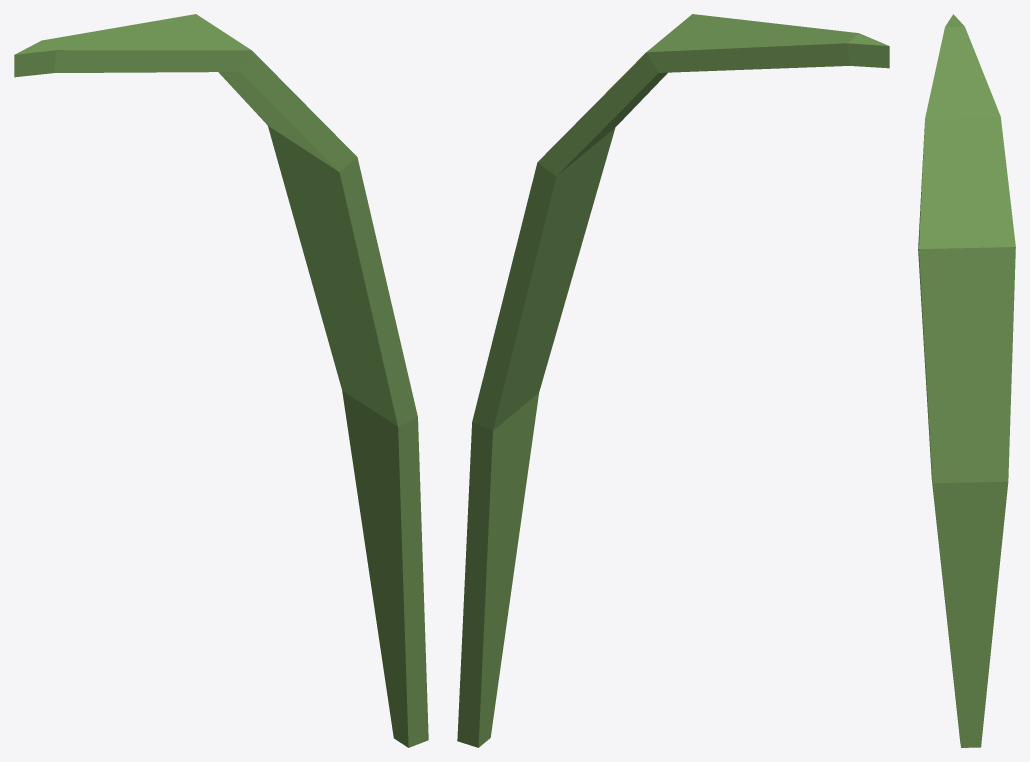
File: wheat_1.gltf
The picture shows the model from 3 angles, left to right: view 1: azimuth 30°, elevation 25°; view 2: azimuth 150°, elevation 25°; view 3: azimuth 270°, elevation 25°; orthographic projection. The views are drawn at different scales.
Visible parts, largest first — view 1: wheat_1; view 2: wheat_1; view 3: wheat_1.
Part boxes in pixels (x1=…): wheat_1: x1=14, y1=14, x2=428, y2=747; wheat_1: x1=457, y1=14, x2=889, y2=747; wheat_1: x1=918, y1=14, x2=1015, y2=747.
Bounding box in the file's own units: 0.1214 × 0.2194 × 0.0333.
Materials: 1 (1 with a texture image).
